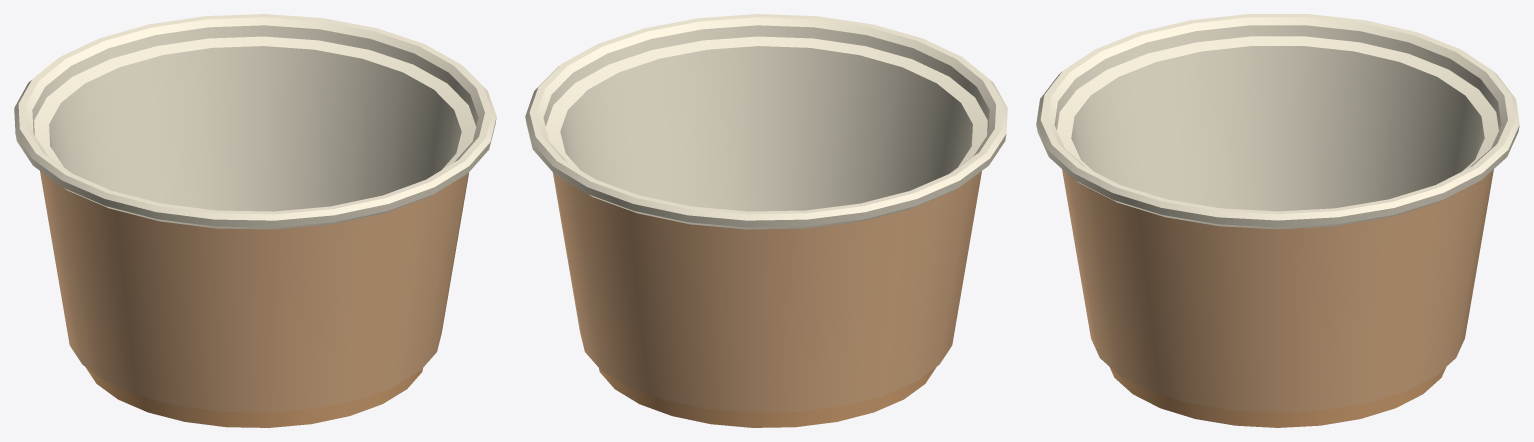
The model's file is Cup S Beige.fbx.
The picture shows the model from 3 angles, left to right: view 1: azimuth 30°, elevation 25°; view 2: azimuth 150°, elevation 25°; view 3: azimuth 270°, elevation 25°; orthographic projection.
Visible parts, largest first — view 1: Cup S Beige; view 2: Cup S Beige; view 3: Cup S Beige.
Part boxes in pixels (x1=…): Cup S Beige: x1=14, y1=14, x2=496, y2=427; Cup S Beige: x1=525, y1=14, x2=1007, y2=427; Cup S Beige: x1=1036, y1=14, x2=1519, y2=427.
Size of the model in its own units: 0.7531 by 0.416 by 0.7546.
